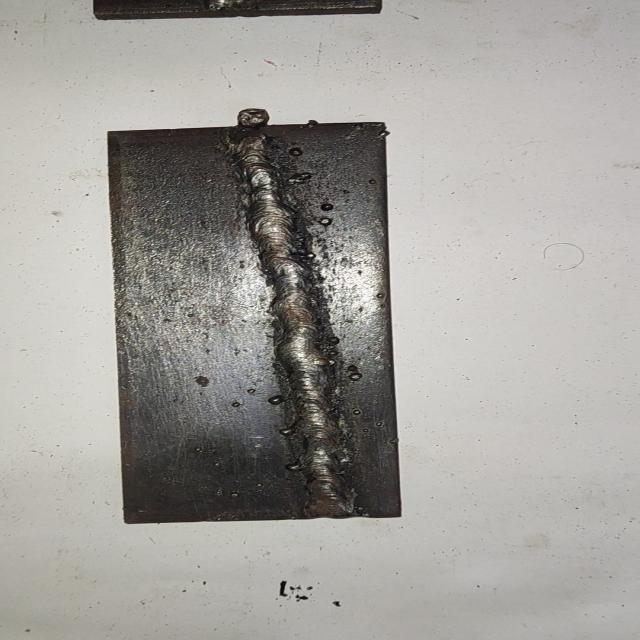Good Weld: (226, 131, 353, 512)
